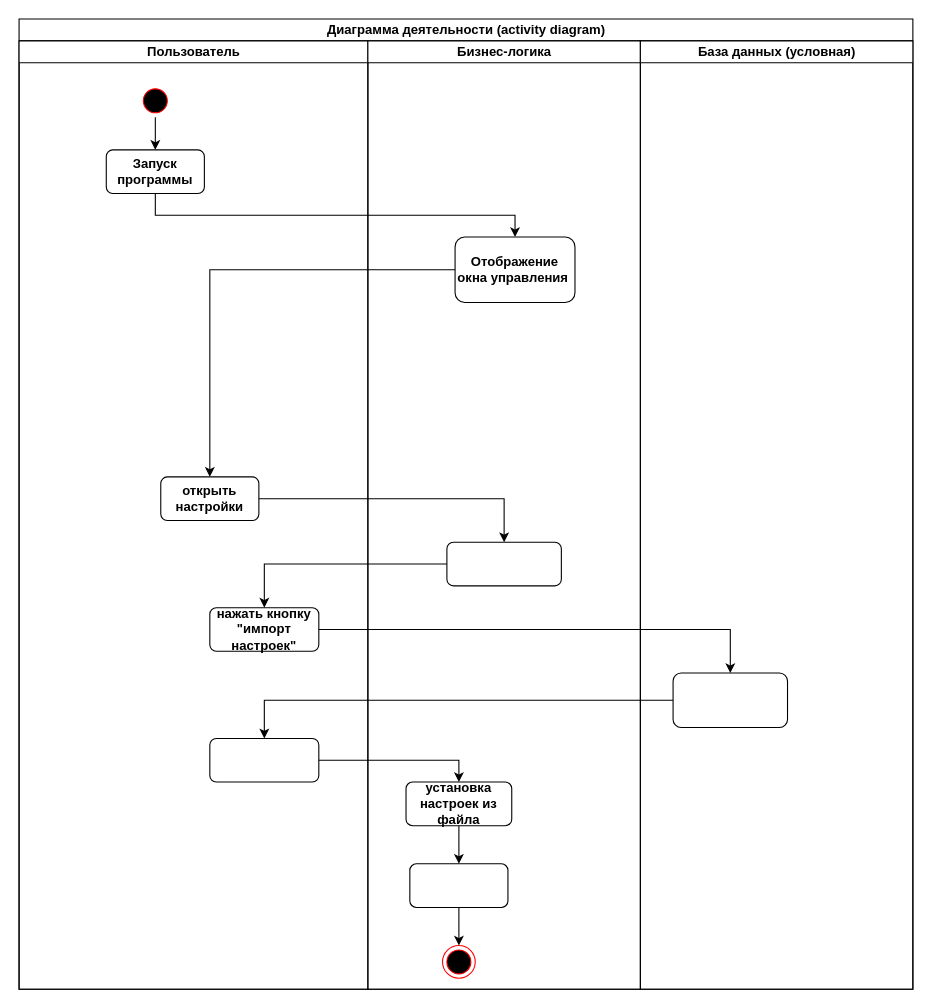
Image size: 932x1008. Some labels were removed from this diagram. The centre of each missing label's shape, as x and y in pixels:
Завершить работу приложения: the point at 458,885
нажать кнопку принять: the point at 264,759
отображение окна настроек: the point at 503,563
чтение настроек из файла: the point at 730,700
